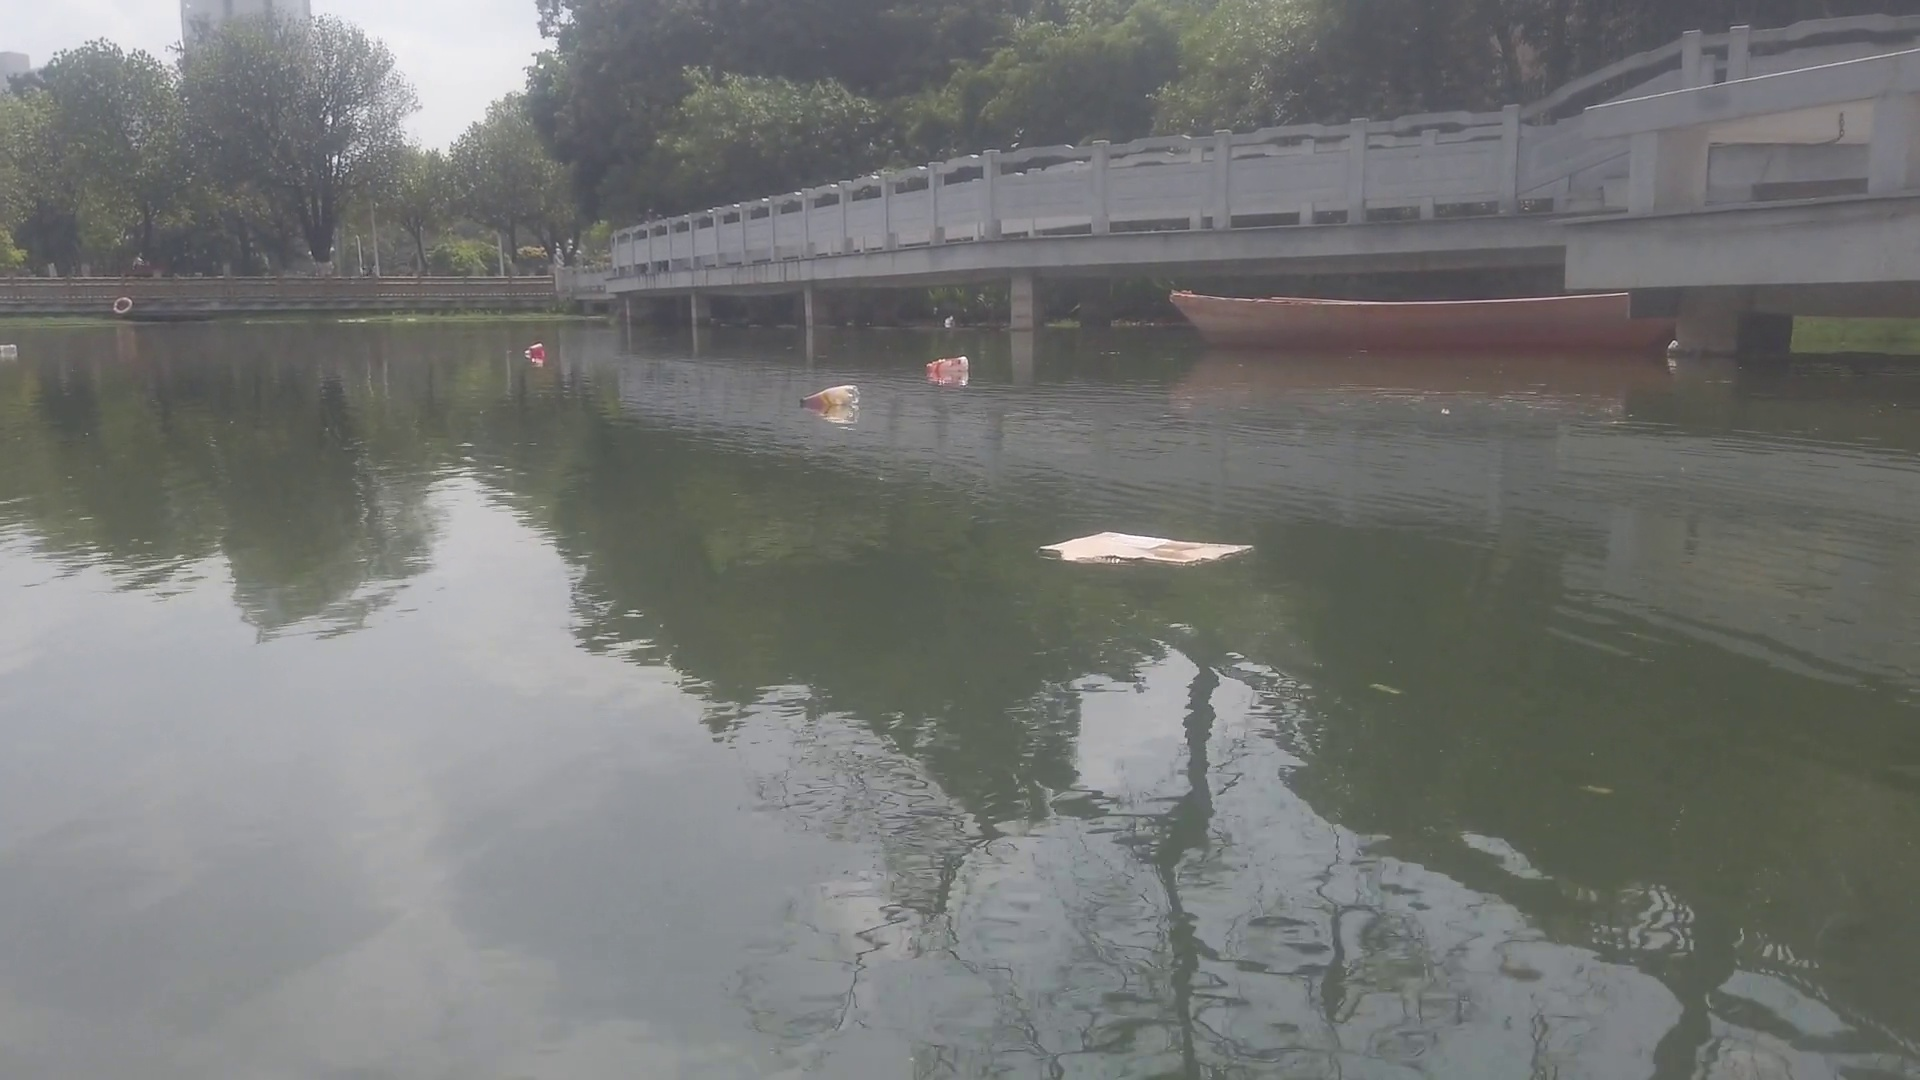bottle: (796, 385, 858, 406), (922, 357, 973, 376), (520, 342, 545, 357), (1, 344, 18, 352)
paper: (1033, 527, 1255, 578)
